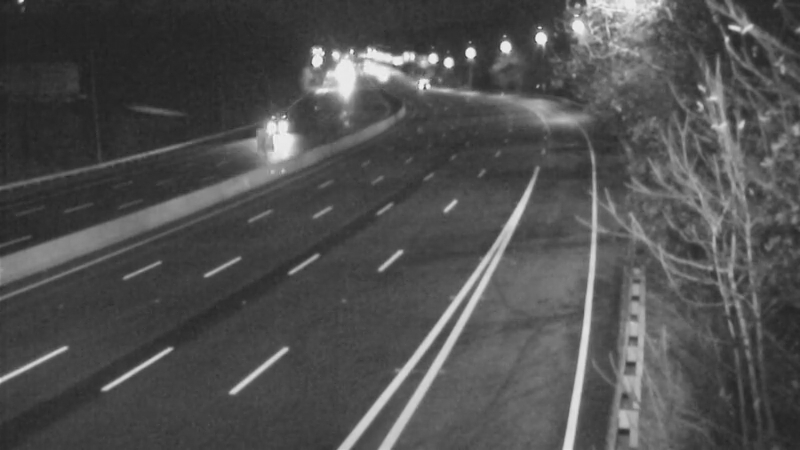vehicle: (398, 56, 448, 106), (357, 53, 407, 103), (259, 102, 309, 152)
